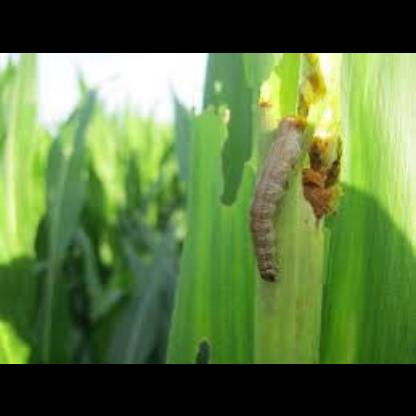agujero: (214, 100, 254, 206), (190, 338, 214, 364)
oruga: (240, 116, 310, 286)
